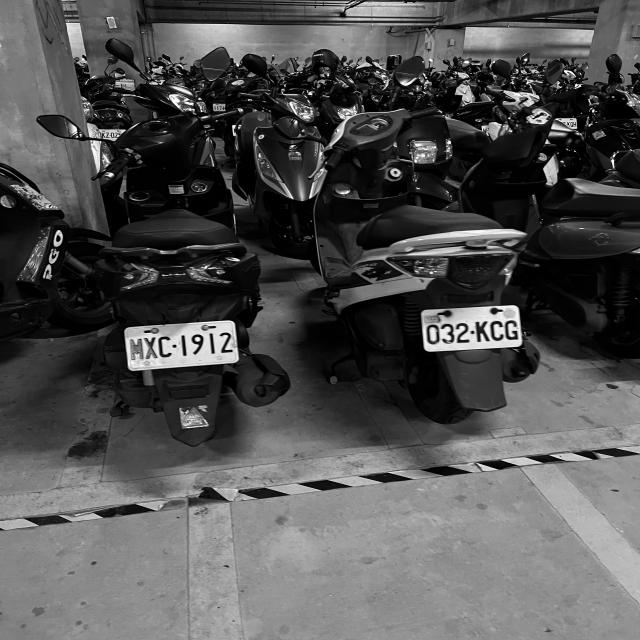-: (172, 343, 177, 349), (470, 331, 474, 335), (109, 134, 111, 136)
0: (426, 324, 440, 344), (110, 132, 114, 138)
1: (206, 332, 218, 355), (178, 334, 188, 358)
2: (218, 330, 235, 354), (456, 322, 470, 344)
3: (441, 322, 456, 343)
9: (190, 334, 204, 354)
C: (158, 337, 172, 358), (490, 321, 504, 342)
G: (504, 320, 520, 340)
K: (474, 321, 490, 342), (102, 132, 105, 138)
M: (128, 338, 144, 359)
X: (144, 337, 158, 359)
Z: (106, 132, 110, 138)
plate: (126, 328, 238, 363), (422, 310, 522, 349)
